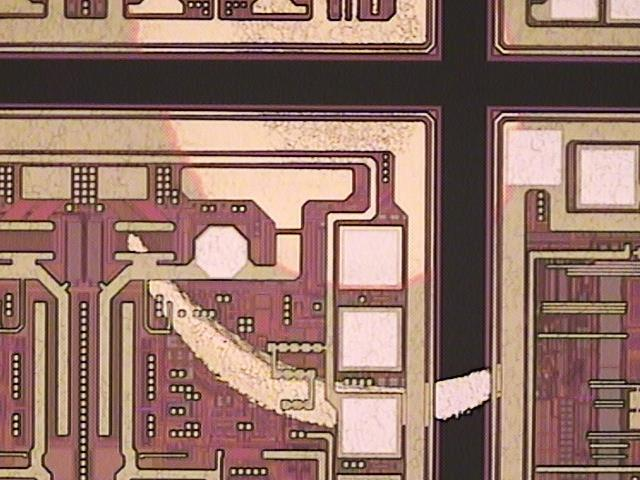COATING BAD: (118, 1, 544, 437)
